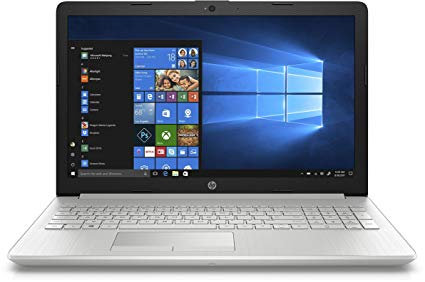Laptop: (4, 1, 422, 281)
